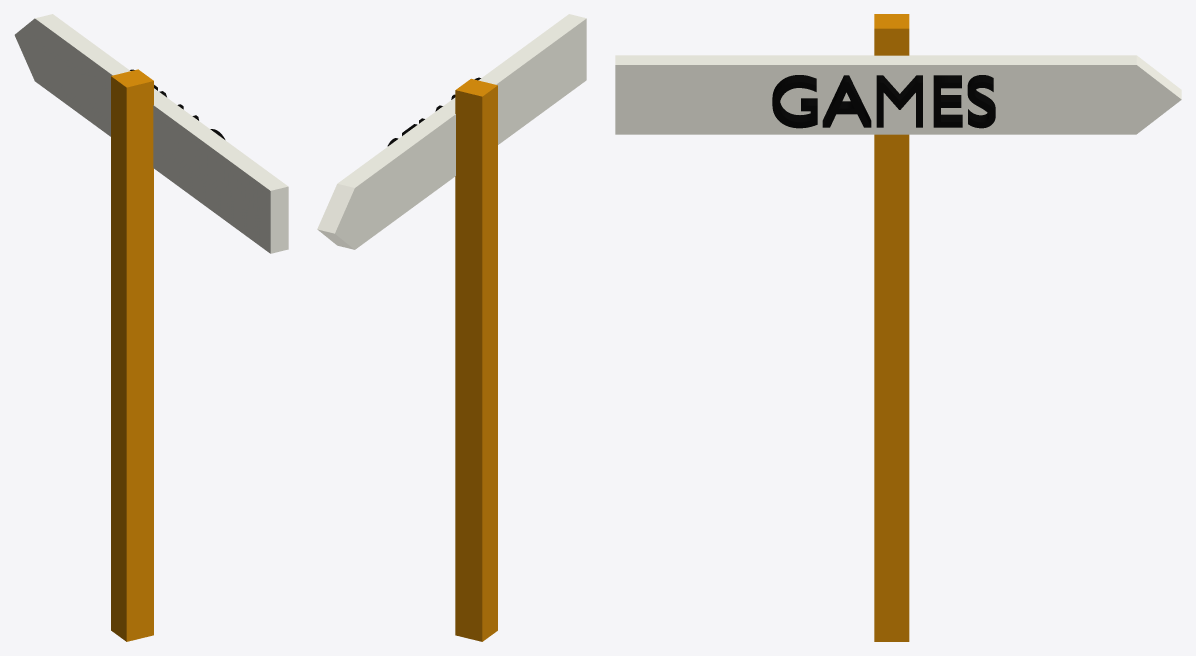
File: GAMES.fbx
The picture shows the model from 3 angles, left to right: view 1: azimuth 30°, elevation 25°; view 2: azimuth 150°, elevation 25°; view 3: azimuth 270°, elevation 25°; orthographic projection. The views are drawn at different scales.
Parts seen in each view (by area): view 1: Cube, Cubo; view 2: Cube, Cubo; view 3: Cubo, Cube, Texto.
Boxes of the visible parts, x1,y1,x2,y2 form: Cube: (111,69,153,641); Cubo: (14,14,288,253); Cube: (455,78,497,641); Cubo: (317,14,586,249); Cubo: (615,55,1181,134); Cube: (874,14,909,641); Texto: (772,75,995,128).
Bounding box in the file's own units: 49.54 × 452 × 378.
